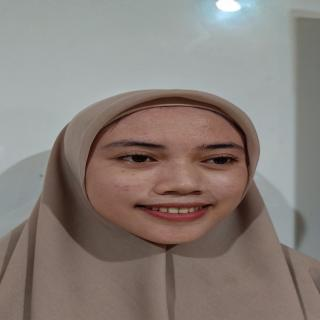Senang: (74, 98, 265, 251)
